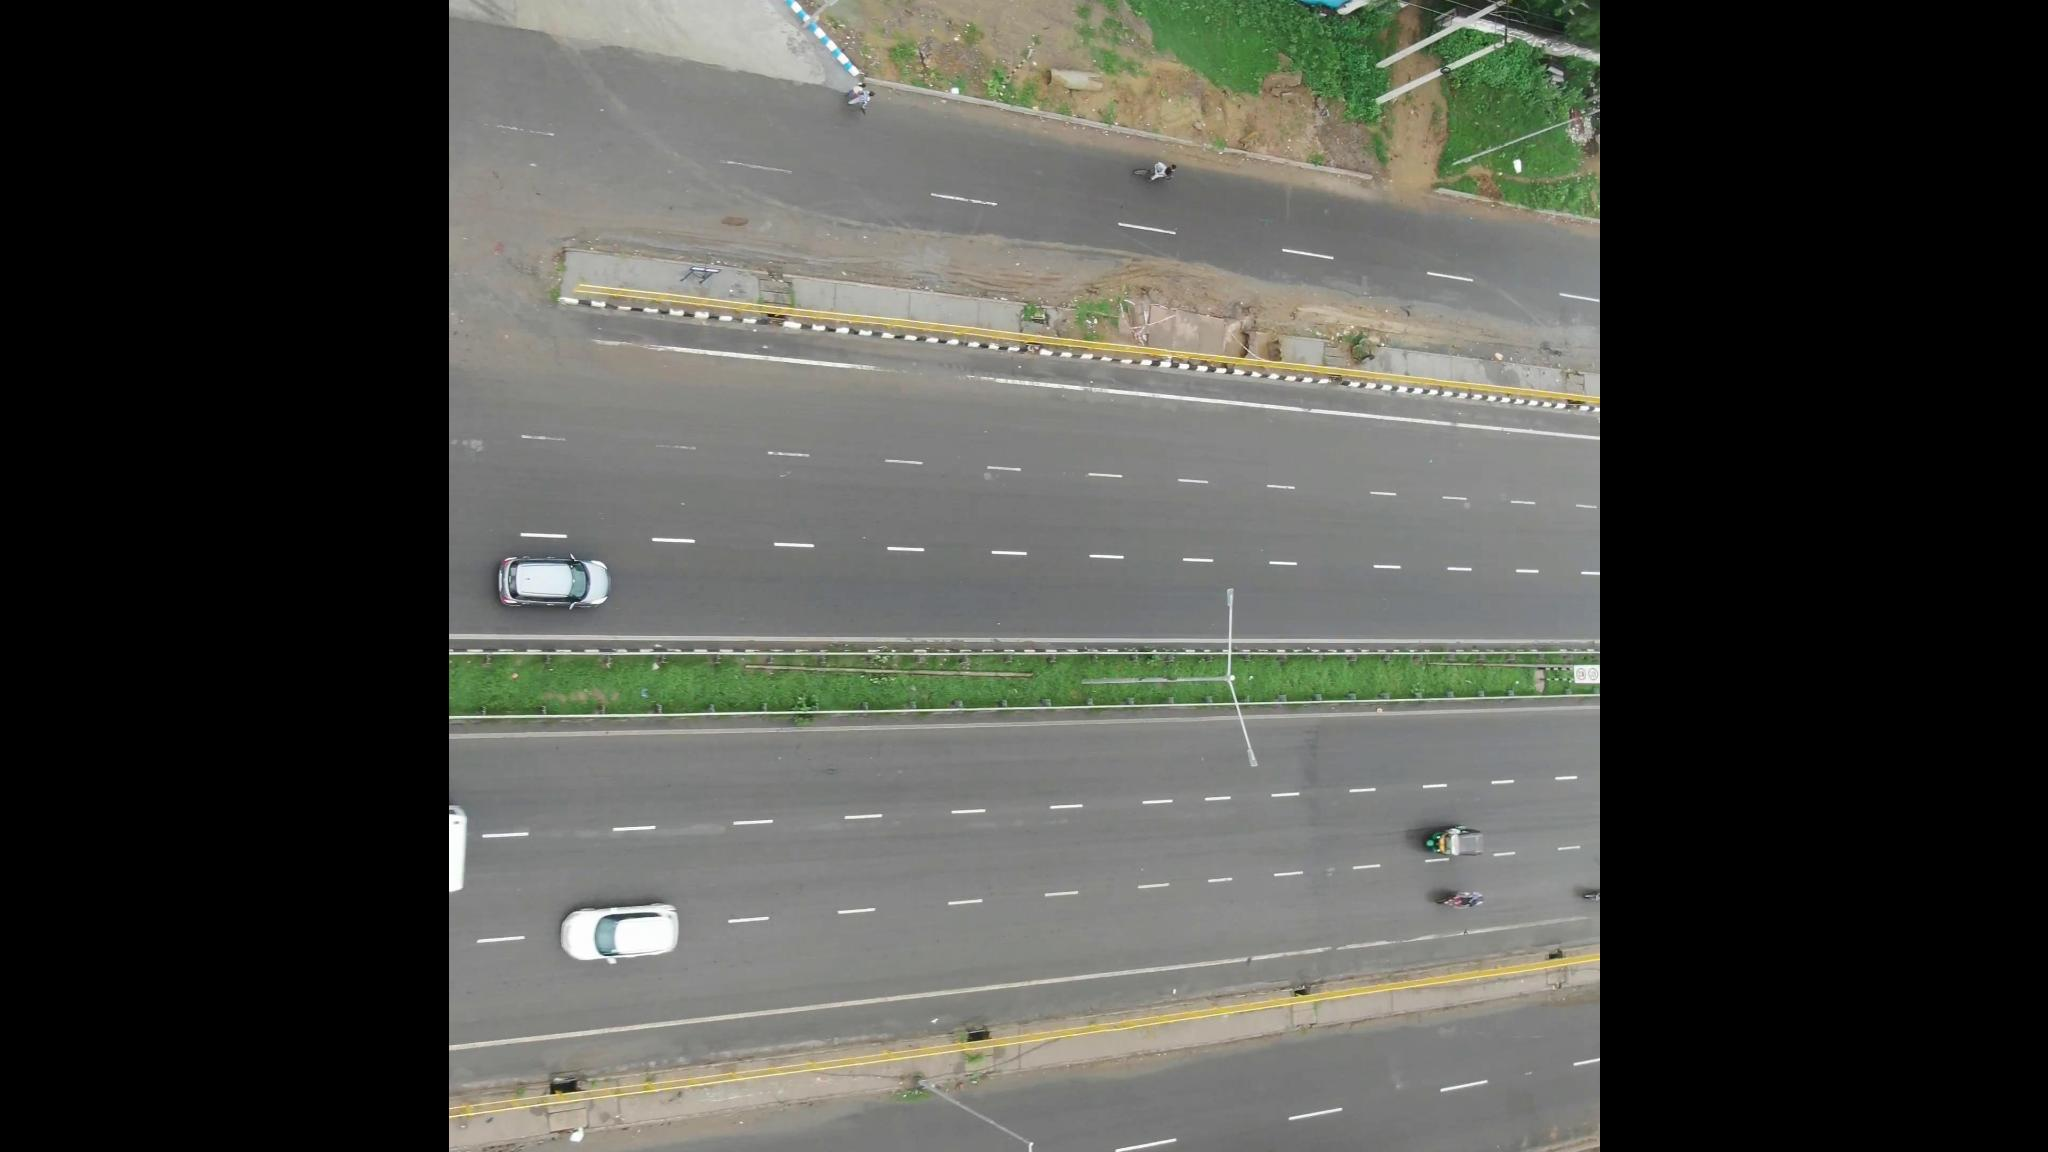Muddy_road: (1068, 245, 1283, 312)
